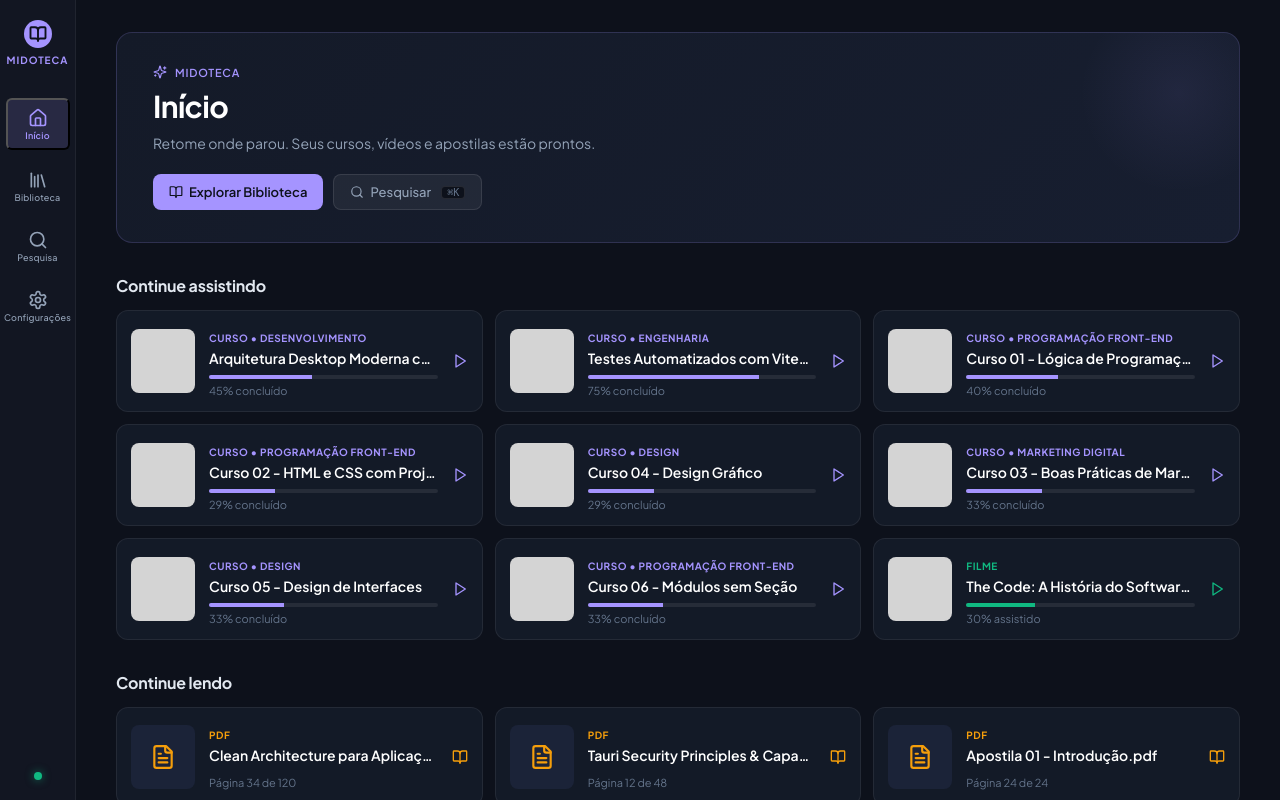
Test: MIDOTECA - Fundação Visual e Navegação › deve iniciar na tela de Início por padrão e permitir navegar para Biblioteca
expect the heading "Início" is shown: met, box [153,87,228,125]
// Clica no botão Biblioteca na sidebar
Click the button "Biblioteca" at (38, 186), box [6,162,70,210]
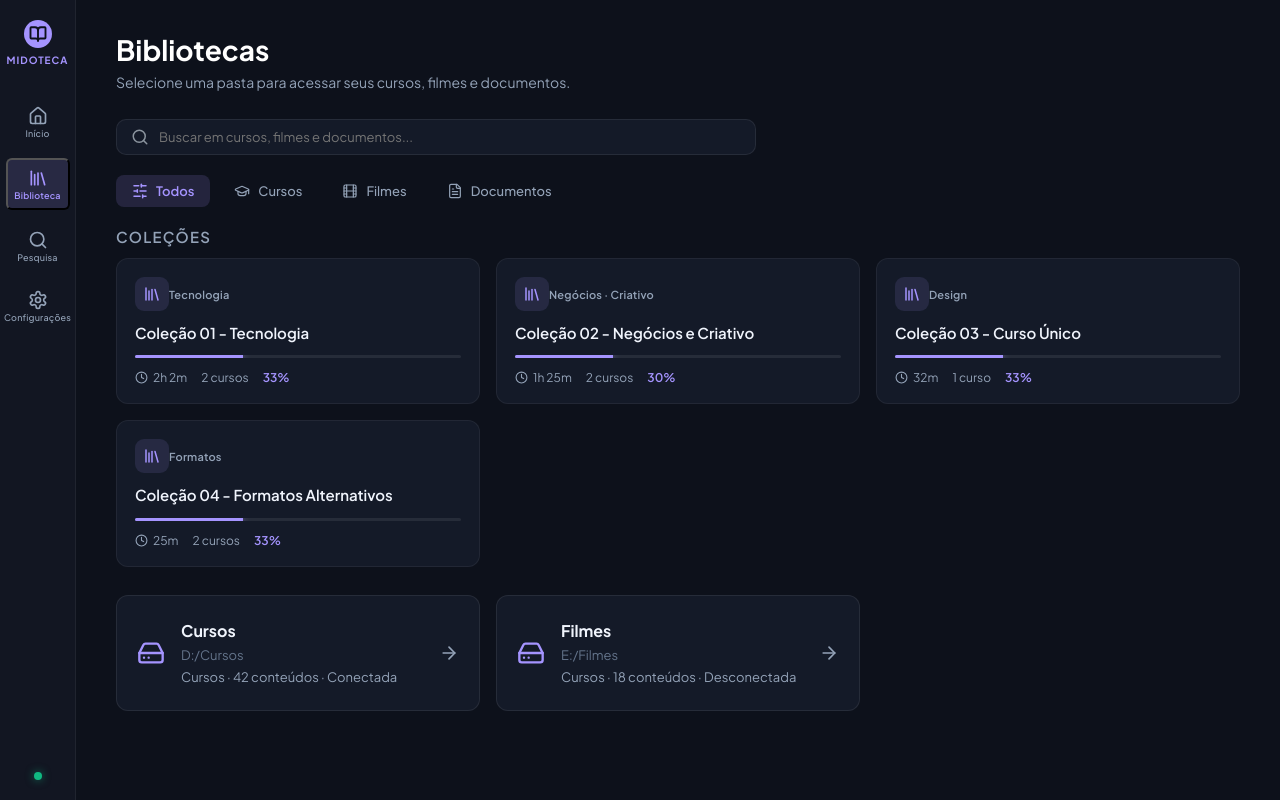
expect the heading "Bibliotecas" is shown: met, box [116,32,270,67]
expect the tab "Todos" is shown: met, box [116,175,210,207]
expect the tab "Cursos" is shown: met, box [218,175,318,207]
